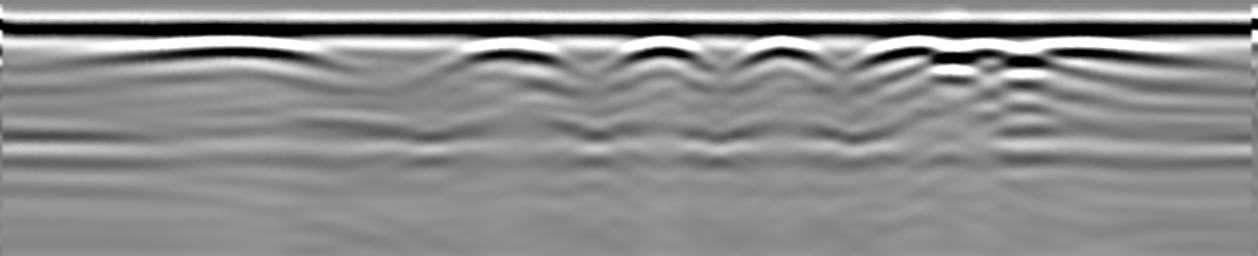steel: (865, 37, 1179, 65), (71, 35, 338, 63), (601, 37, 715, 66), (448, 37, 562, 65), (731, 37, 833, 67)
